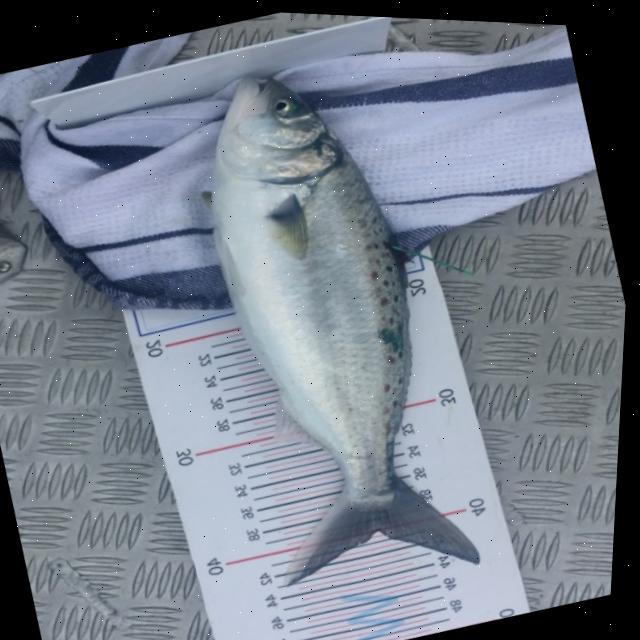Australian Salmon: (87, 4, 570, 640)
